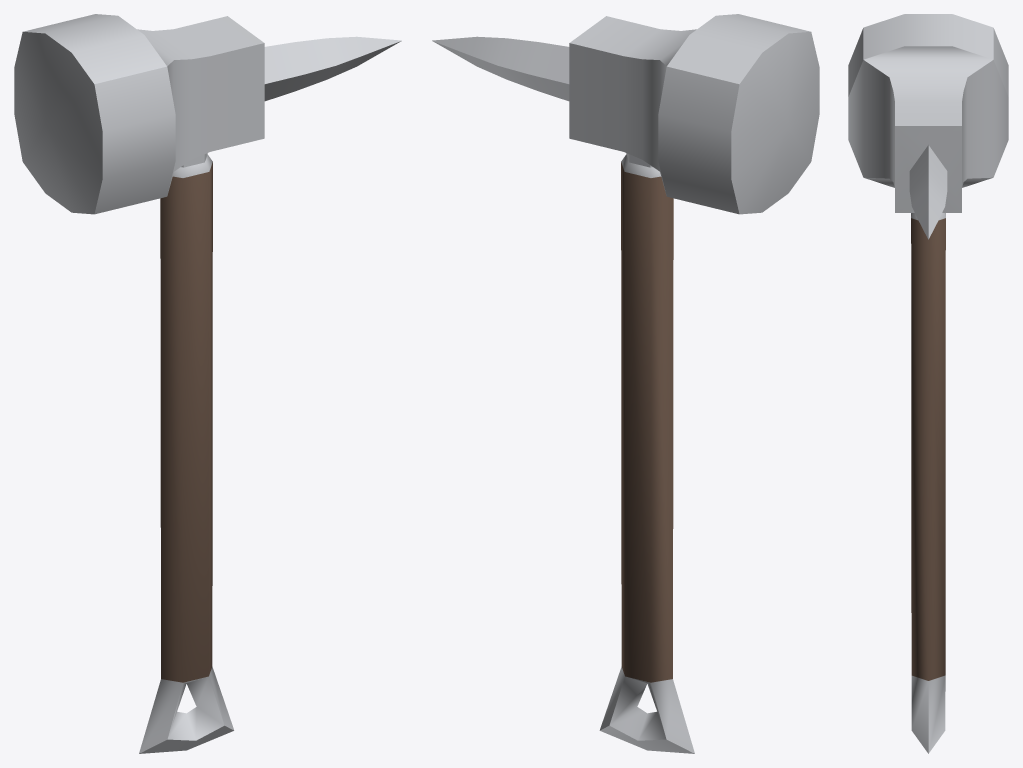
File: Weapon_Hammer.glb
The picture shows the model from 3 angles, left to right: view 1: azimuth 30°, elevation 25°; view 2: azimuth 150°, elevation 25°; view 3: azimuth 270°, elevation 25°; orthographic projection. The views are drawn at different scales.
Parts seen in each view (by area): view 1: Weapon_Hammer; view 2: Weapon_Hammer; view 3: Weapon_Hammer.
Part boxes in pixels (left/top/right/bottom): Weapon_Hammer: left=14, top=14, right=401, bottom=753; Weapon_Hammer: left=432, top=14, right=819, bottom=753; Weapon_Hammer: left=848, top=14, right=1008, bottom=753.
Size of the model in its own units: 0.4548 by 0.9 by 0.1949.
